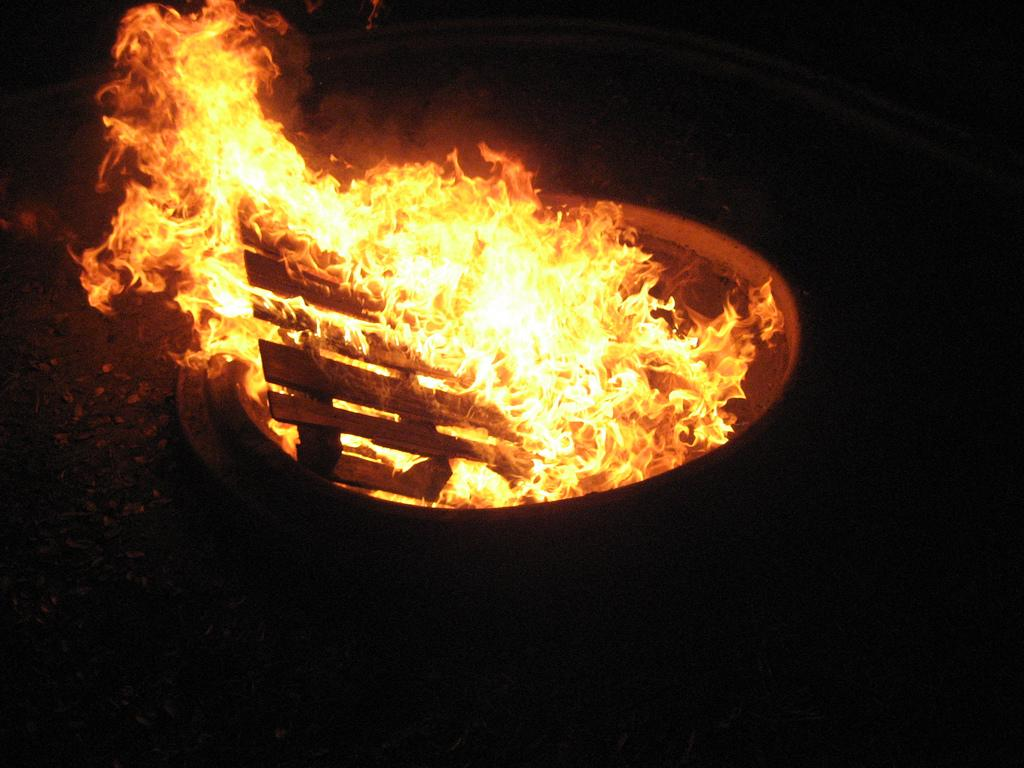fire: (416, 224, 650, 400), (154, 18, 248, 192)
